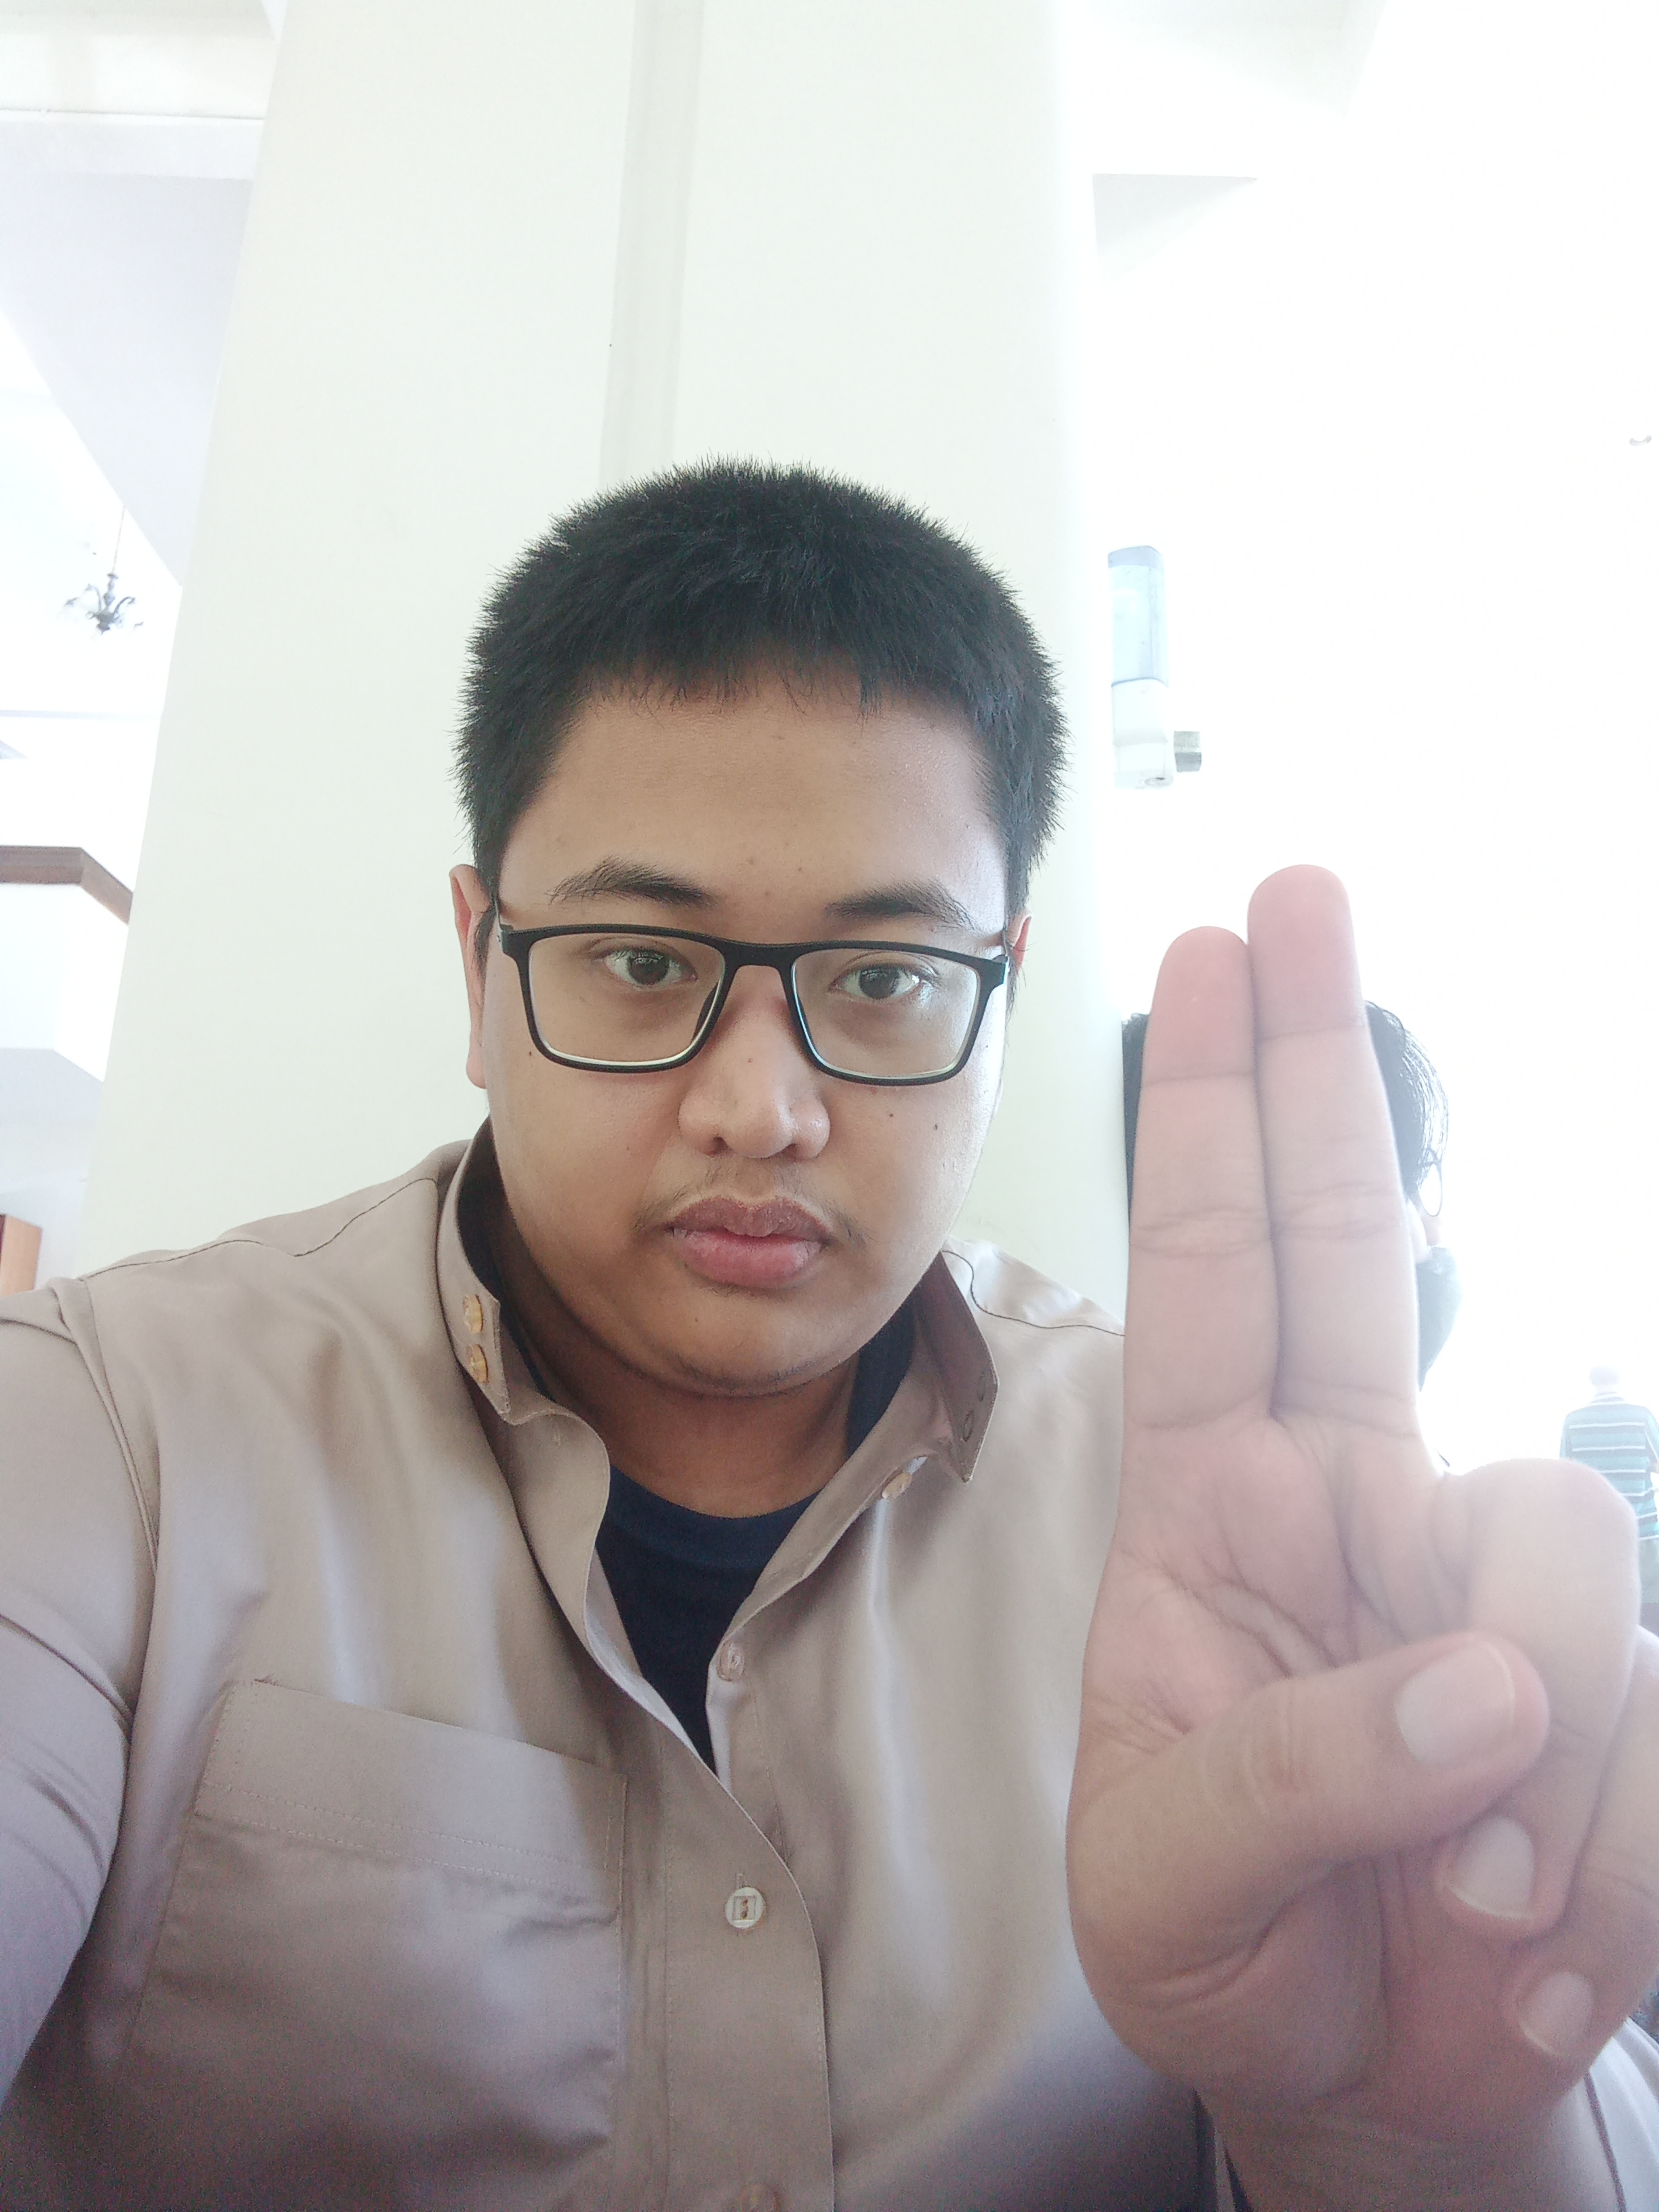U: (1070, 831, 1659, 2198)
